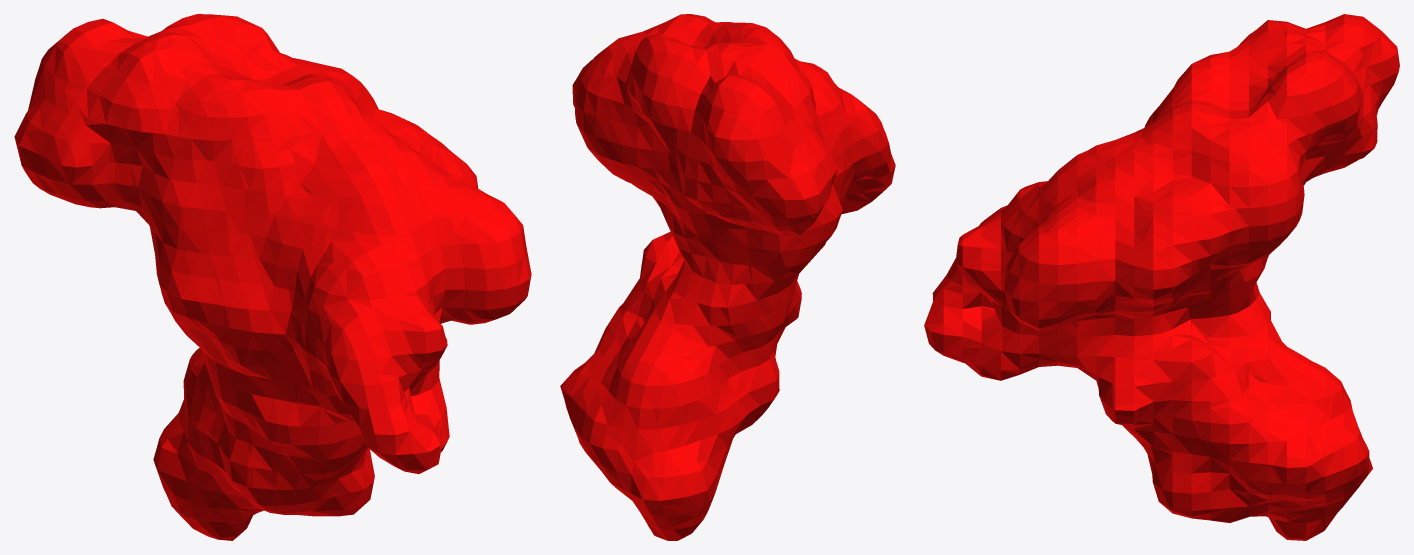
File: clpX_coarse.dae
The picture shows the model from 3 angles, left to right: view 1: azimuth 30°, elevation 25°; view 2: azimuth 150°, elevation 25°; view 3: azimuth 270°, elevation 25°; orthographic projection. The views are drawn at different scales.
Parts seen in each view (by area): view 1: clpX; view 2: clpX; view 3: clpX.
Part boxes in pixels (x1=…): clpX: x1=14, y1=14, x2=531, y2=540; clpX: x1=560, y1=14, x2=895, y2=540; clpX: x1=924, y1=14, x2=1399, y2=540.
Size of the model in its own units: 60.71 by 85.18 by 76.49.
